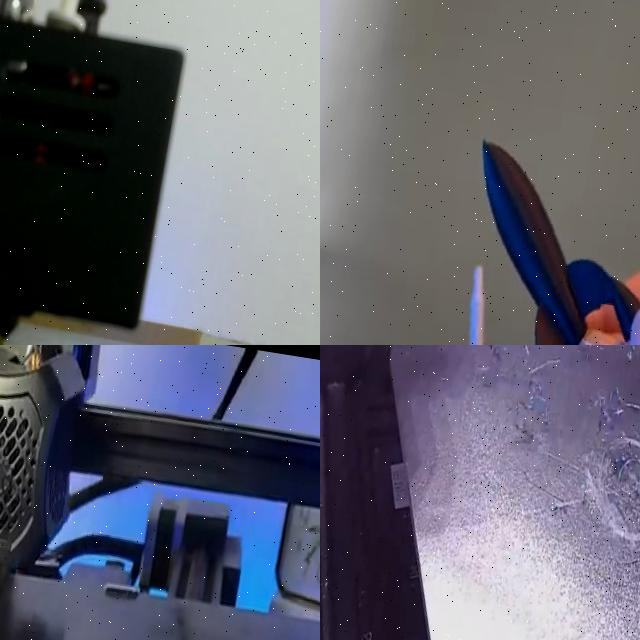spaghetti: (516, 371, 555, 438), (542, 488, 584, 542), (609, 441, 640, 510), (592, 386, 632, 434), (469, 345, 526, 370), (561, 345, 610, 374), (614, 345, 640, 369)
